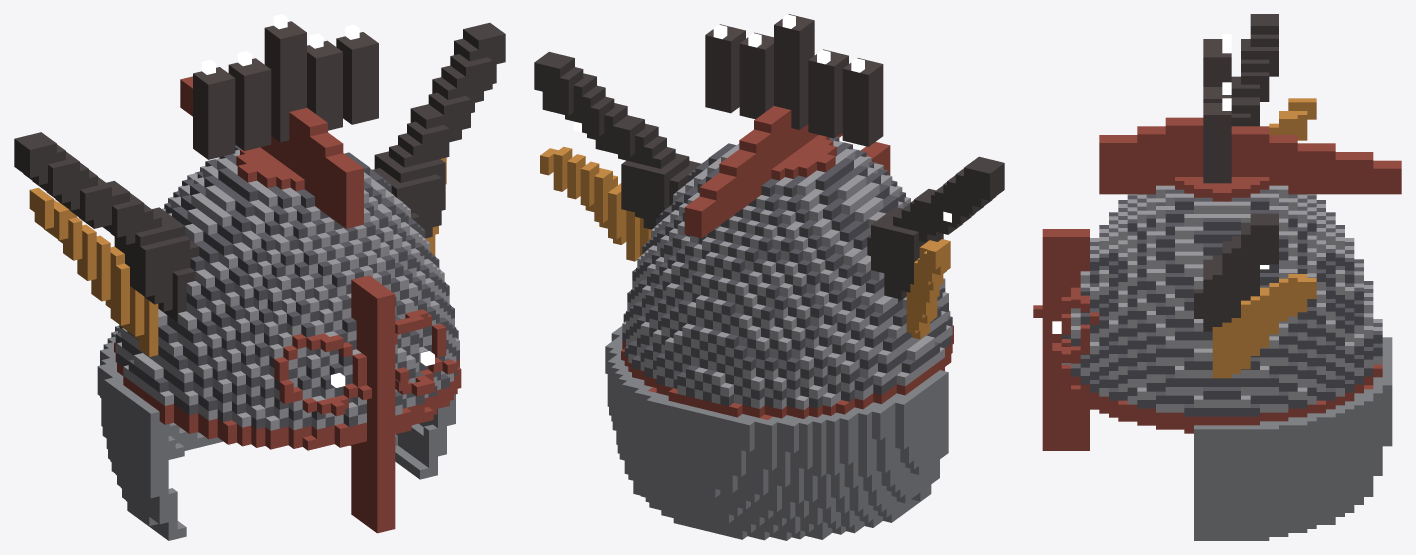
Rendered from chain_masterwork_helmet.glb.
3 renders of one model, left to right at view 1: azimuth 30°, elevation 25°; view 2: azimuth 150°, elevation 25°; view 3: azimuth 270°, elevation 25°, orthographic. The views are drawn at different scales.
Visible parts, largest first — view 1: chain_masterwork_helmet; view 2: chain_masterwork_helmet; view 3: chain_masterwork_helmet.
Part boxes in pixels (x1,y1,x2,y2): chain_masterwork_helmet: [14, 14, 505, 540]; chain_masterwork_helmet: [534, 14, 1004, 540]; chain_masterwork_helmet: [1033, 14, 1401, 540].
Size of the model in its own units: 0.636 by 0.612 by 0.468.
